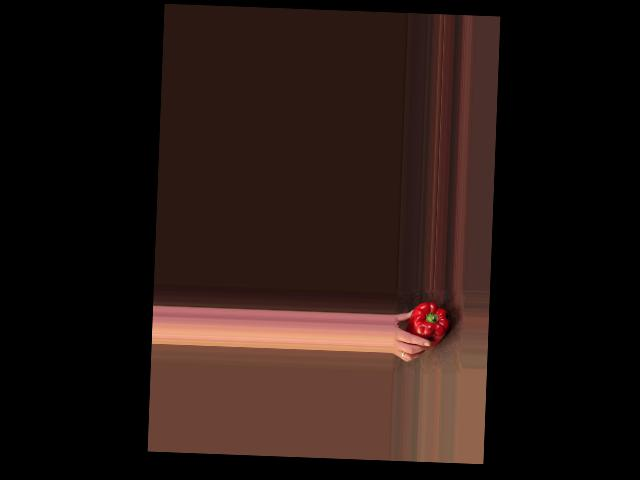bell_pepper: (407, 300, 450, 345)
